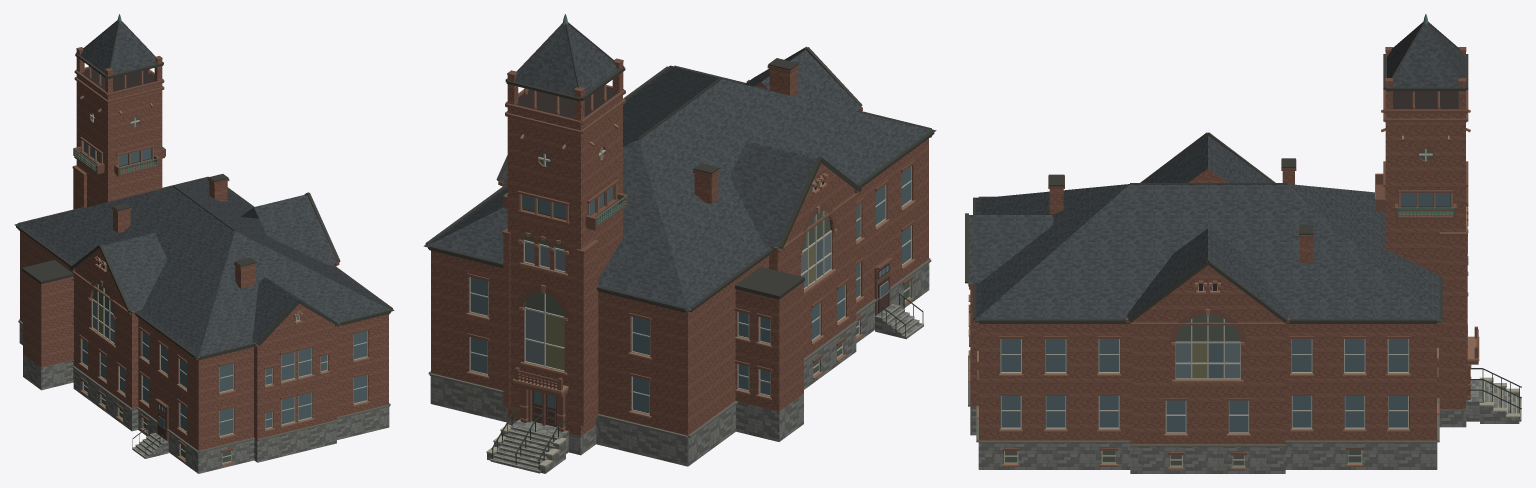
File: historic_courthouse.glb
3 views of the same model, side by side, from view 1: azimuth 30°, elevation 25°; view 2: azimuth 150°, elevation 25°; view 3: azimuth 270°, elevation 25° (orthographic). The views are drawn at different scales.
Visible parts, largest first — view 1: 01 Principal masonry, 02 Hipped slate roof and cross gables, 03 Six-level tower, 06 West connector termination, 04 Open tower crown and pyramid, 05 Entrance steps and railings; view 2: 01 Principal masonry, 02 Hipped slate roof and cross gables, 03 Six-level tower, 06 West connector termination, 04 Open tower crown and pyramid, 05 Entrance steps and railings; view 3: 01 Principal masonry, 02 Hipped slate roof and cross gables, 03 Six-level tower, 04 Open tower crown and pyramid, 05 Entrance steps and railings.
Part boxes in pixels (left/top/right/bottom): 01 Principal masonry: left=18, top=231, right=390, bottom=473; 02 Hipped slate roof and cross gables: left=14, top=174, right=394, bottom=359; 03 Six-level tower: left=72, top=68, right=165, bottom=209; 06 West connector termination: left=22, top=260, right=73, bottom=390; 04 Open tower crown and pyramid: left=75, top=14, right=163, bottom=94; 05 Entrance steps and railings: left=132, top=425, right=168, bottom=458; 01 Principal masonry: left=428, top=80, right=931, bottom=466; 02 Hipped slate roof and cross gables: left=423, top=46, right=936, bottom=313; 03 Six-level tower: left=502, top=87, right=627, bottom=455; 06 West connector termination: left=734, top=266, right=804, bottom=441; 04 Open tower crown and pyramid: left=505, top=14, right=625, bottom=123; 05 Entrance steps and railings: left=486, top=293, right=923, bottom=473; 01 Principal masonry: left=968, top=168, right=1439, bottom=473; 02 Hipped slate roof and cross gables: left=965, top=132, right=1442, bottom=324; 03 Six-level tower: left=1375, top=109, right=1479, bottom=427; 04 Open tower crown and pyramid: left=1383, top=14, right=1468, bottom=112; 05 Entrance steps and railings: left=1466, top=368, right=1521, bottom=423.
Size of the model in its own units: 23.9 by 30.24 by 38.52.
Materials: 19 (3 with a texture image).
